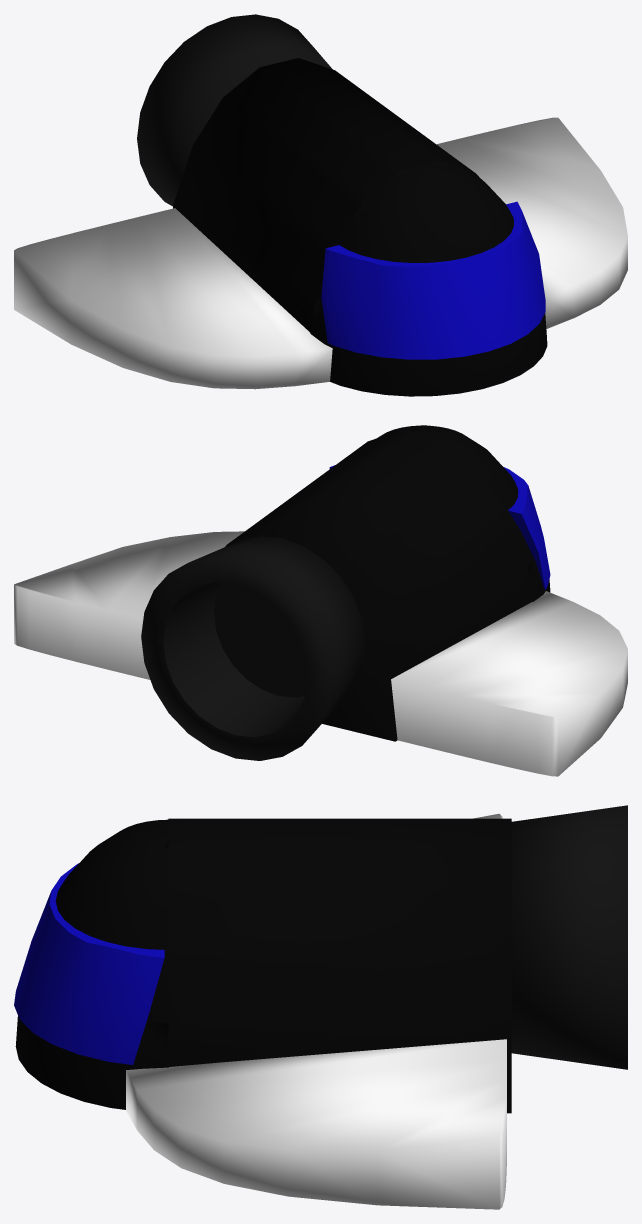
File: UchusenFinal.FBX
3 views of the same model, one above another, from view 1: azimuth 30°, elevation 25°; view 2: azimuth 150°, elevation 25°; view 3: azimuth 270°, elevation 25° (orthographic). The views are drawn at different scales.
Visible parts, largest first — view 1: ShipBody, ShipWing, ShipWindow, ShipWing001, ShipEngine; view 2: ShipBody, ShipEngine, ShipWing, ShipWing001, ShipWindow; view 3: ShipBody, ShipWing001, ShipEngine, ShipWindow.
Part boxes in pixels (x1,y1,x2,y2): ShipBody: (173, 58, 547, 396); ShipWing: (14, 208, 332, 389); ShipWindow: (321, 201, 545, 359); ShipWing001: (436, 117, 627, 328); ShipEngine: (137, 14, 332, 206); ShipBody: (225, 425, 550, 741); ShipEngine: (141, 536, 365, 760); ShipWing: (391, 591, 627, 776); ShipWing001: (14, 531, 244, 679); ShipWindow: (329, 465, 550, 589); ShipBody: (15, 818, 511, 1113); ShipWing001: (126, 1039, 506, 1209); ShipEngine: (511, 805, 627, 1069); ShipWindow: (14, 863, 164, 1064).
Size of the model in its own units: 92.27 by 73.98 by 32.
